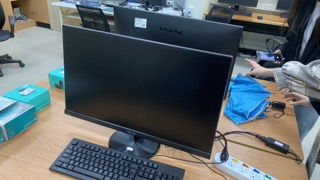screen: (61, 22, 233, 161)
